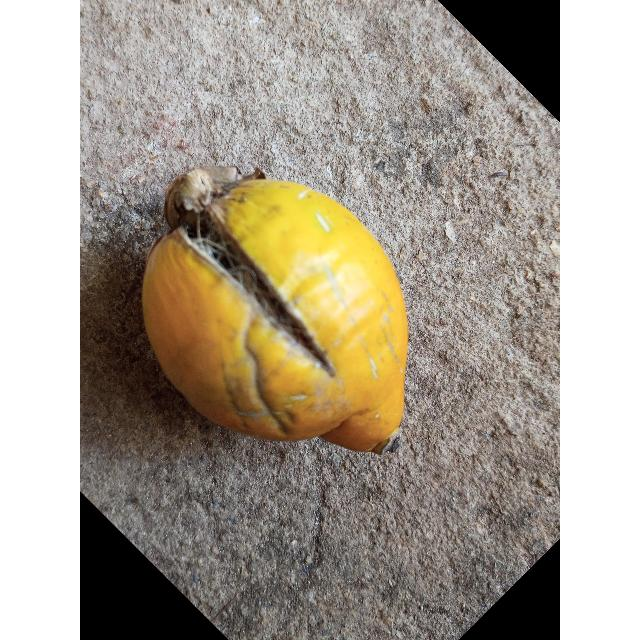damaged: (142, 166, 408, 455)
